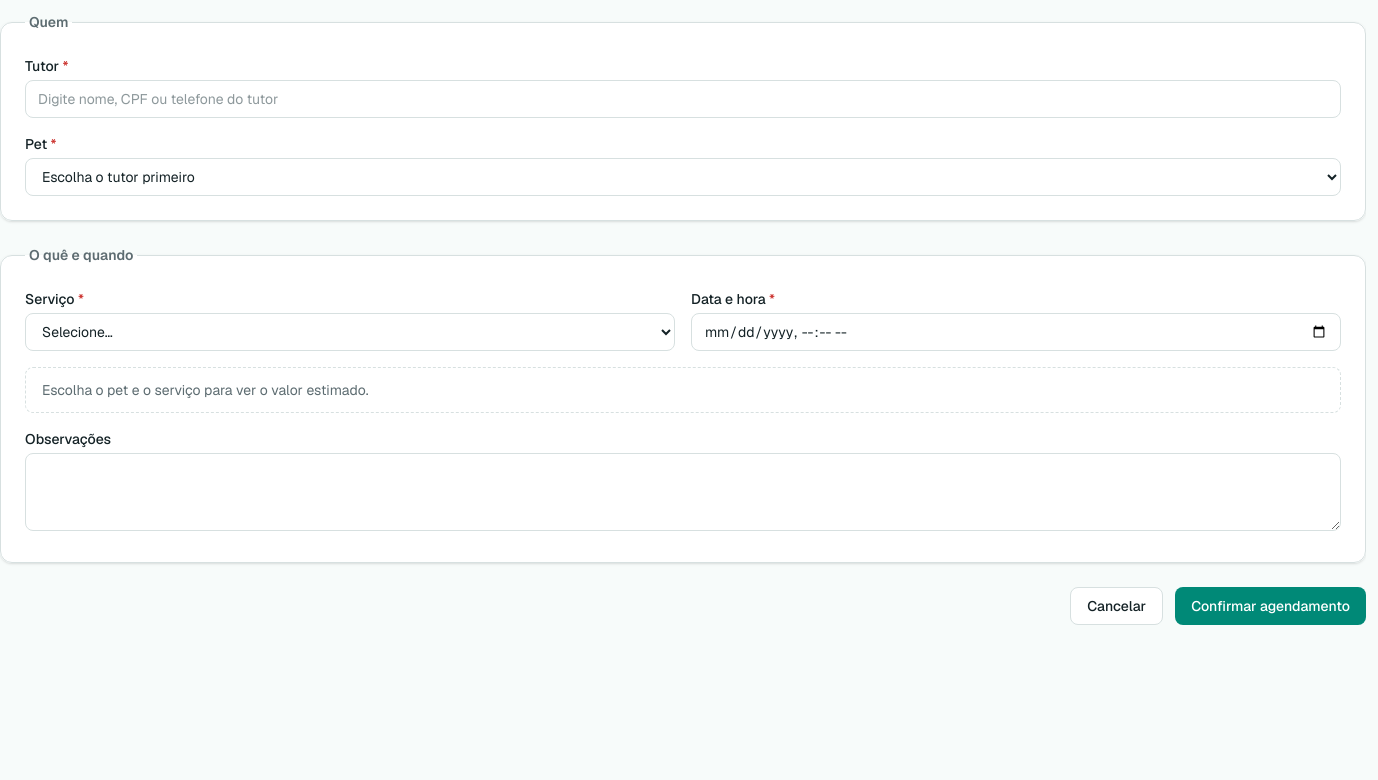
it: AgendamentoForm › carregaPetsAposSelecionarTutor
Expected: the dropdown labelled "Pet *" is disabled, [25,158,1341,196]
Type "Ana" into the field labelled "Tutor *" at point(683, 99), box [25,80,1341,118]
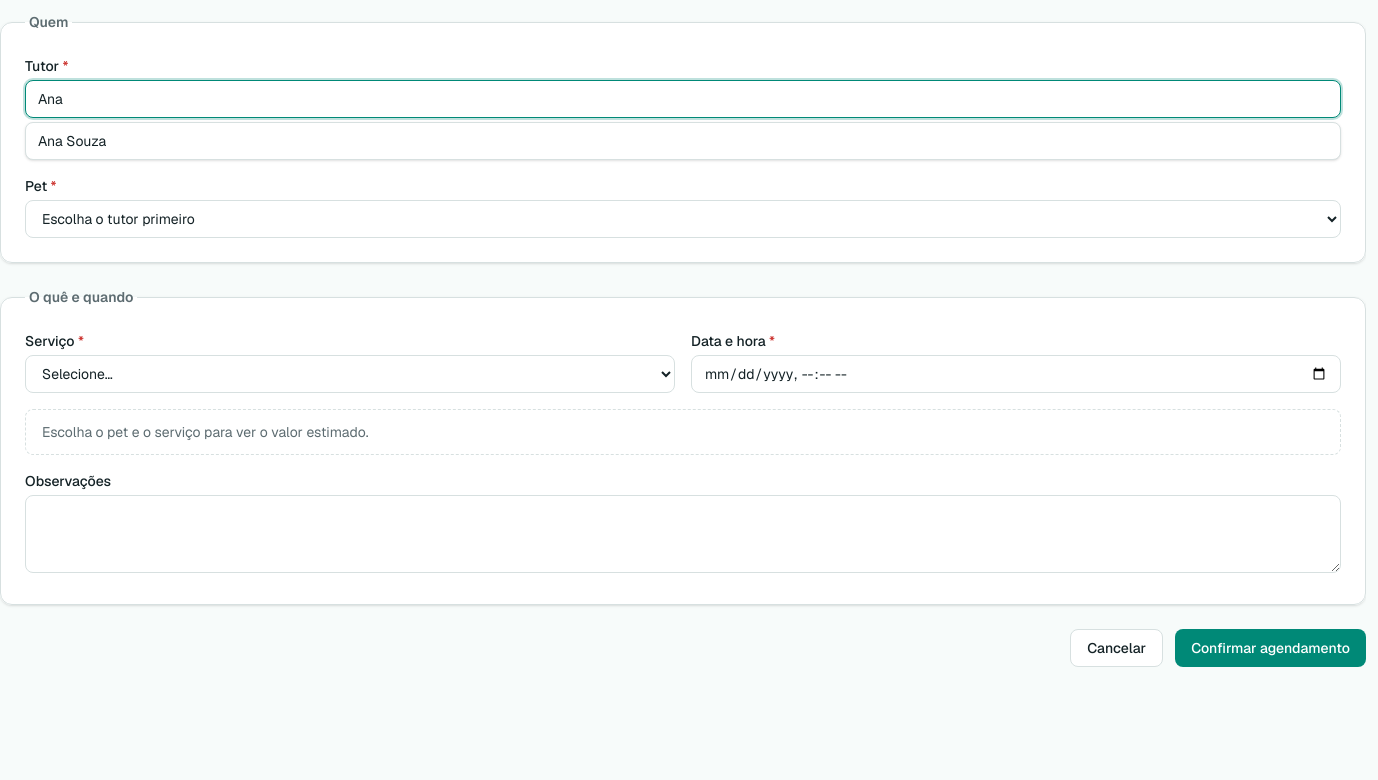
Click the button "Ana Souza" at point(72, 141), box [26,123,1340,159]
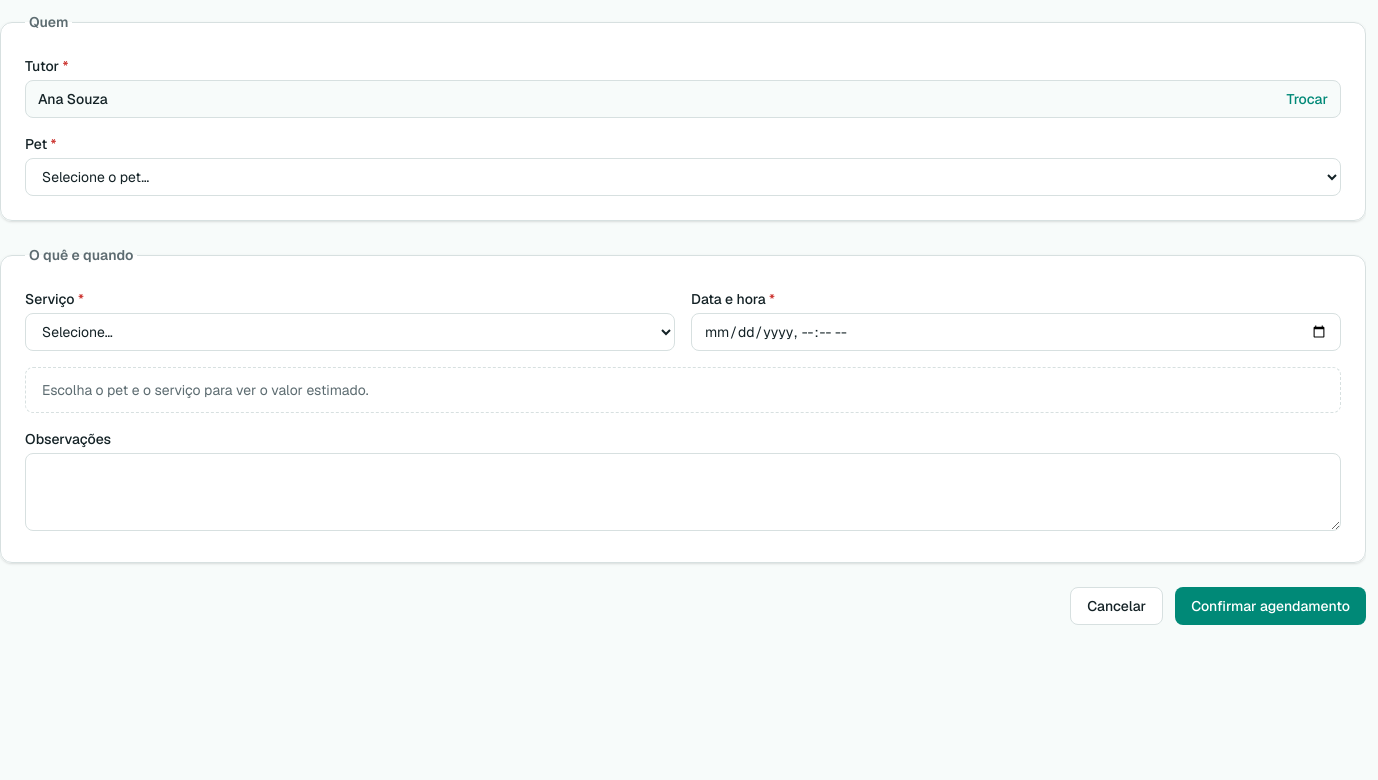
Now the dropdown labelled "Pet *" is enabled, box [25,158,1341,196]
